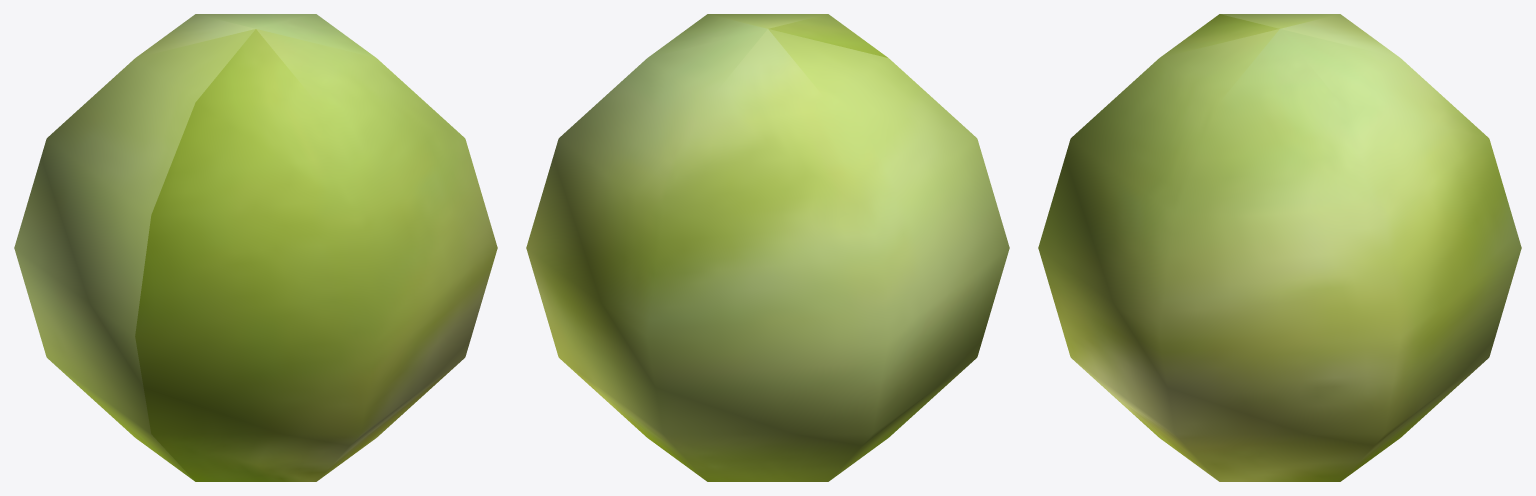
Rendered from Bezelye.fbx.
3 renders of one model, left to right at view 1: azimuth 30°, elevation 25°; view 2: azimuth 150°, elevation 25°; view 3: azimuth 270°, elevation 25°, orthographic.
Visible parts, largest first — view 1: Sphere.023; view 2: Sphere.023; view 3: Sphere.023.
Part boxes in pixels (bbox=[...]): Sphere.023: bbox=[14, 14, 497, 481]; Sphere.023: bbox=[526, 14, 1009, 481]; Sphere.023: bbox=[1038, 14, 1521, 481].
Size of the model in its own units: 12.04 by 13.9 by 13.9.
